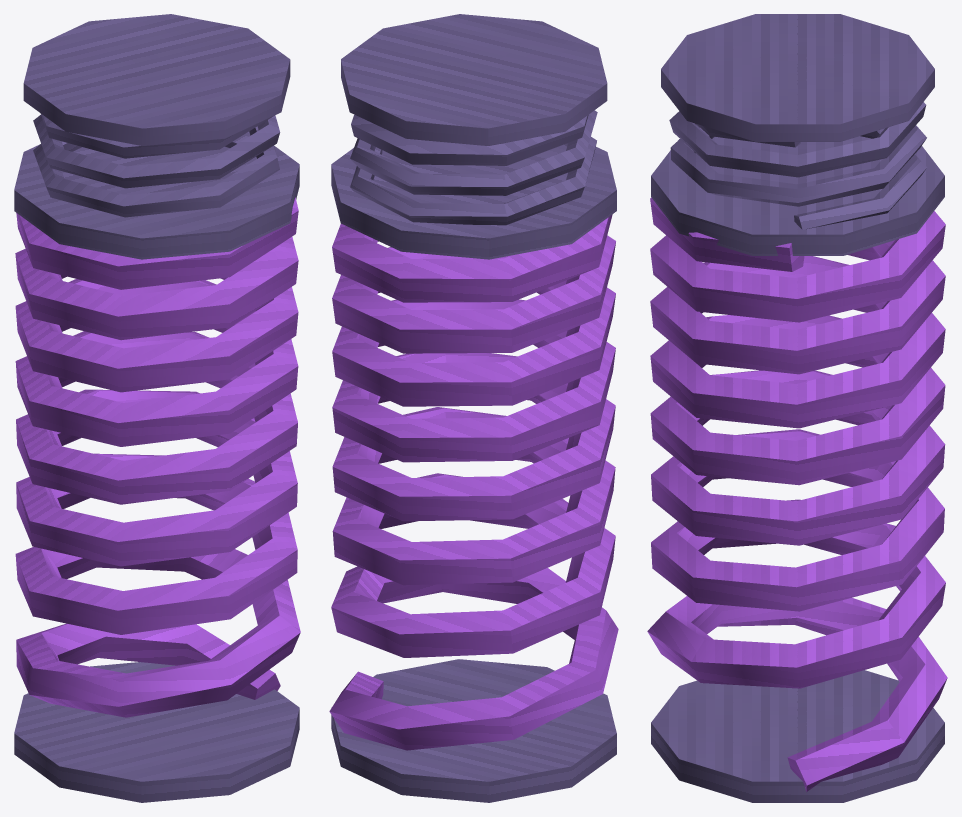
Rendered from molas_n5.glb.
3 views of the same model, side by side, from view 1: azimuth 30°, elevation 25°; view 2: azimuth 150°, elevation 25°; view 3: azimuth 270°, elevation 25° (orthographic).
Visible parts, largest first — view 1: molas_n5; view 2: molas_n5; view 3: molas_n5.
Part boxes in pixels (x1=…): molas_n5: x1=14, y1=14, x2=300, y2=802; molas_n5: x1=329, y1=14, x2=618, y2=802; molas_n5: x1=647, y1=14, x2=947, y2=802.
Size of the model in its own units: 0.1523 by 0.38 by 0.1534.
1 material, 1 textured.
